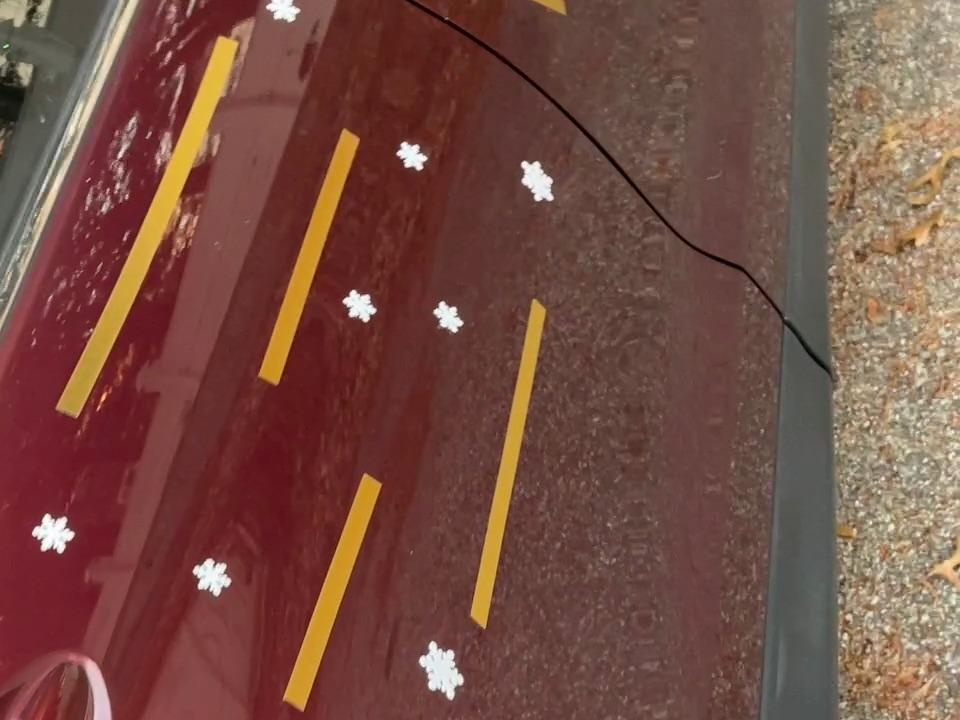dent: (411, 635, 475, 709), (25, 499, 82, 563), (513, 155, 565, 213), (187, 549, 238, 605), (389, 129, 438, 178), (337, 283, 385, 330), (429, 295, 471, 339), (261, 0, 310, 34)
scratch: (41, 31, 243, 420), (245, 111, 366, 387), (459, 298, 556, 638), (279, 471, 402, 713)
